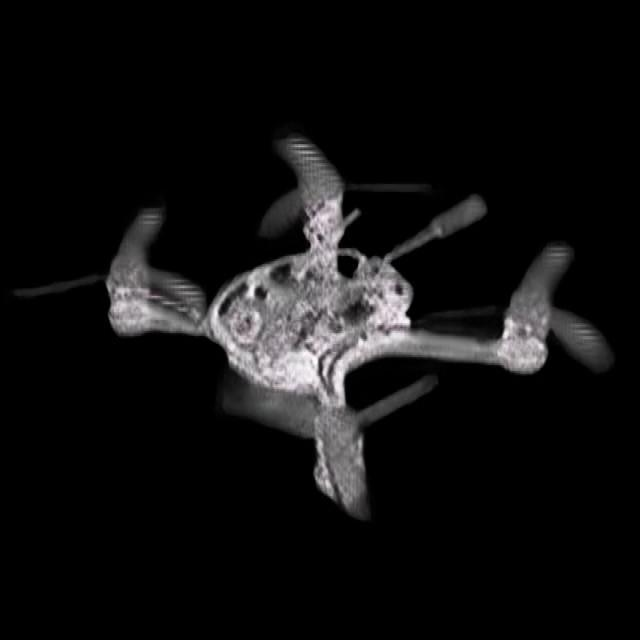drone: (6, 108, 627, 528)
